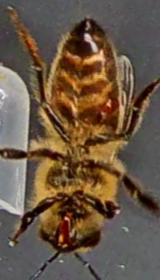varroa_mite: (102, 92, 122, 116)
